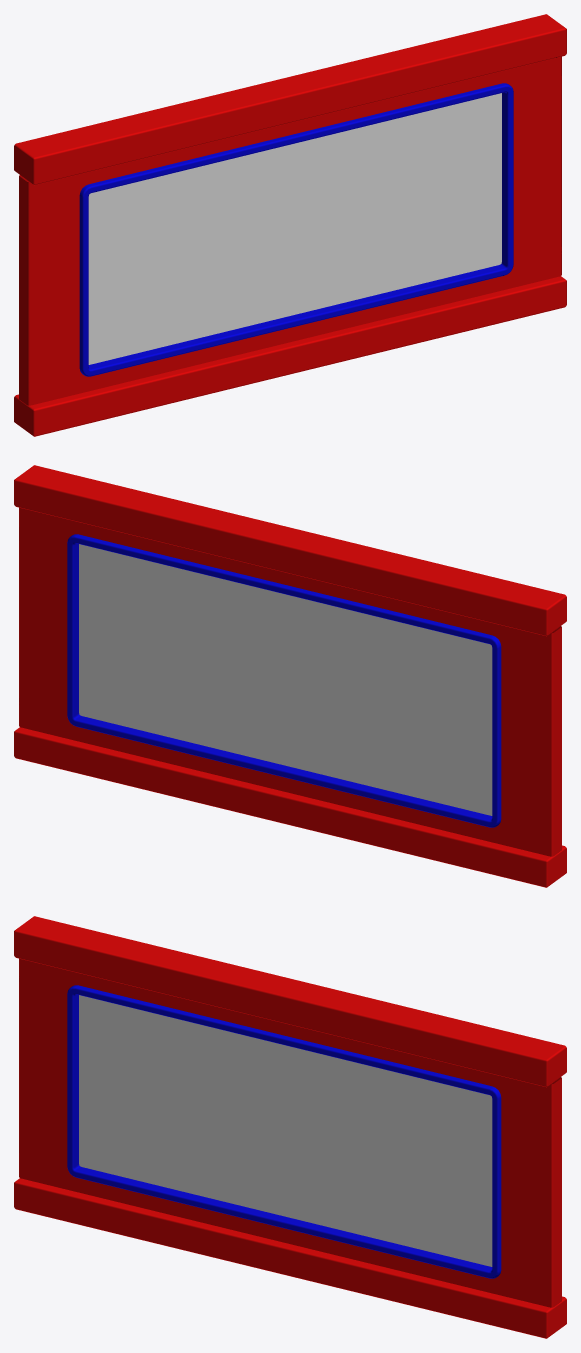
The model's file is wall_window.fbx.
The picture shows the model from 3 angles, top to bottom: view 1: azimuth 30°, elevation 25°; view 2: azimuth 150°, elevation 25°; view 3: azimuth 330°, elevation 25°; orthographic projection.
Visible parts, largest first — view 1: wall_window, wall_window_glass; view 2: wall_window, wall_window_glass; view 3: wall_window, wall_window_glass.
Boxes of the visible parts, bbox=[...] form: wall_window: bbox=[14, 14, 566, 436]; wall_window_glass: bbox=[88, 93, 501, 364]; wall_window: bbox=[14, 465, 566, 887]; wall_window_glass: bbox=[79, 544, 492, 815]; wall_window: bbox=[14, 916, 566, 1338]; wall_window_glass: bbox=[79, 995, 492, 1266].
Bounding box in the file's own units: 600 × 300 × 40.
